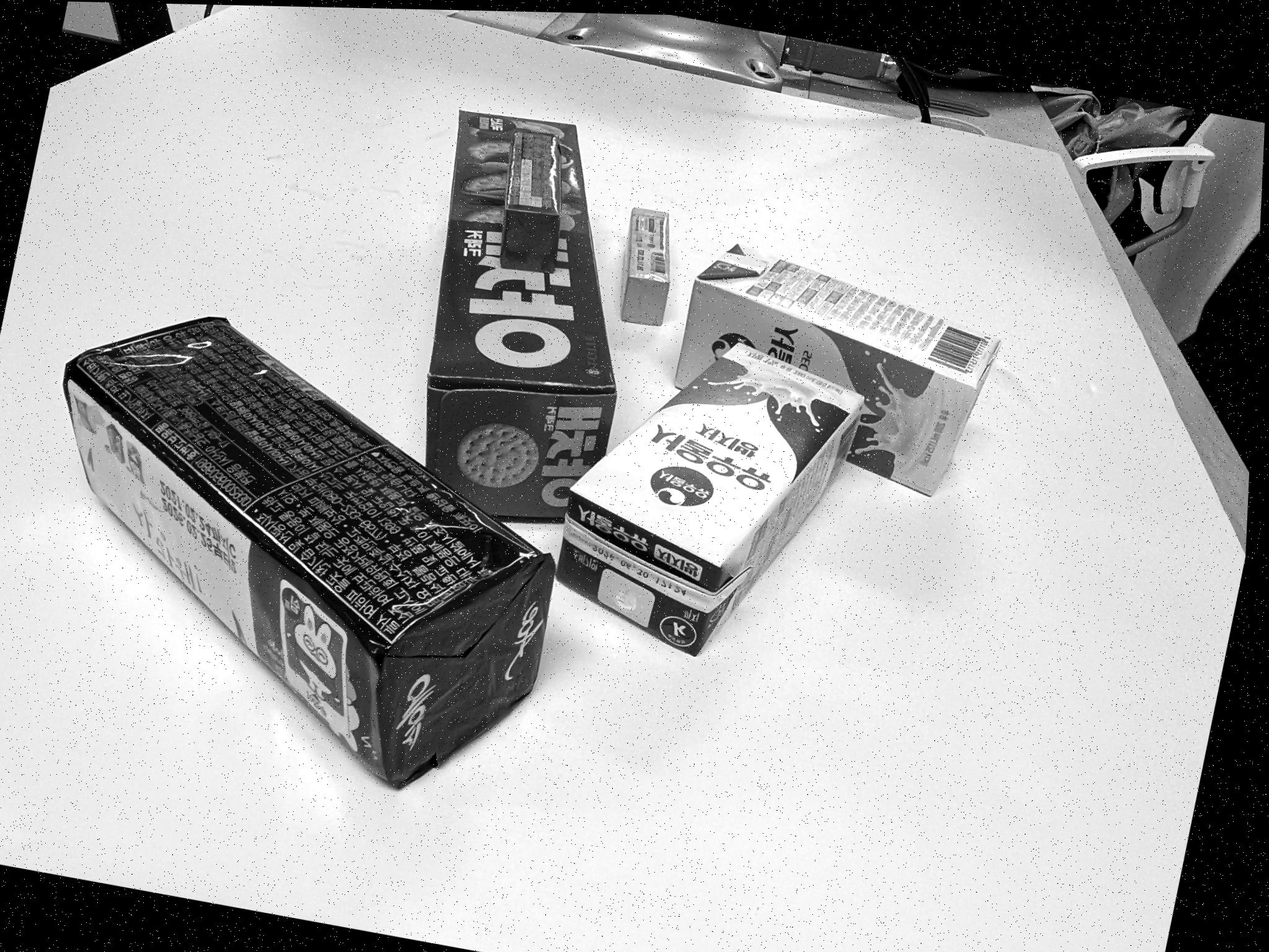cracker_ace: (63, 317, 554, 784)
cracker_vege: (425, 111, 616, 520)
gum_green: (500, 129, 562, 272)
gum_yellow: (621, 208, 672, 325)
milk_blue: (558, 346, 862, 655)
milk_green: (675, 245, 999, 494)
